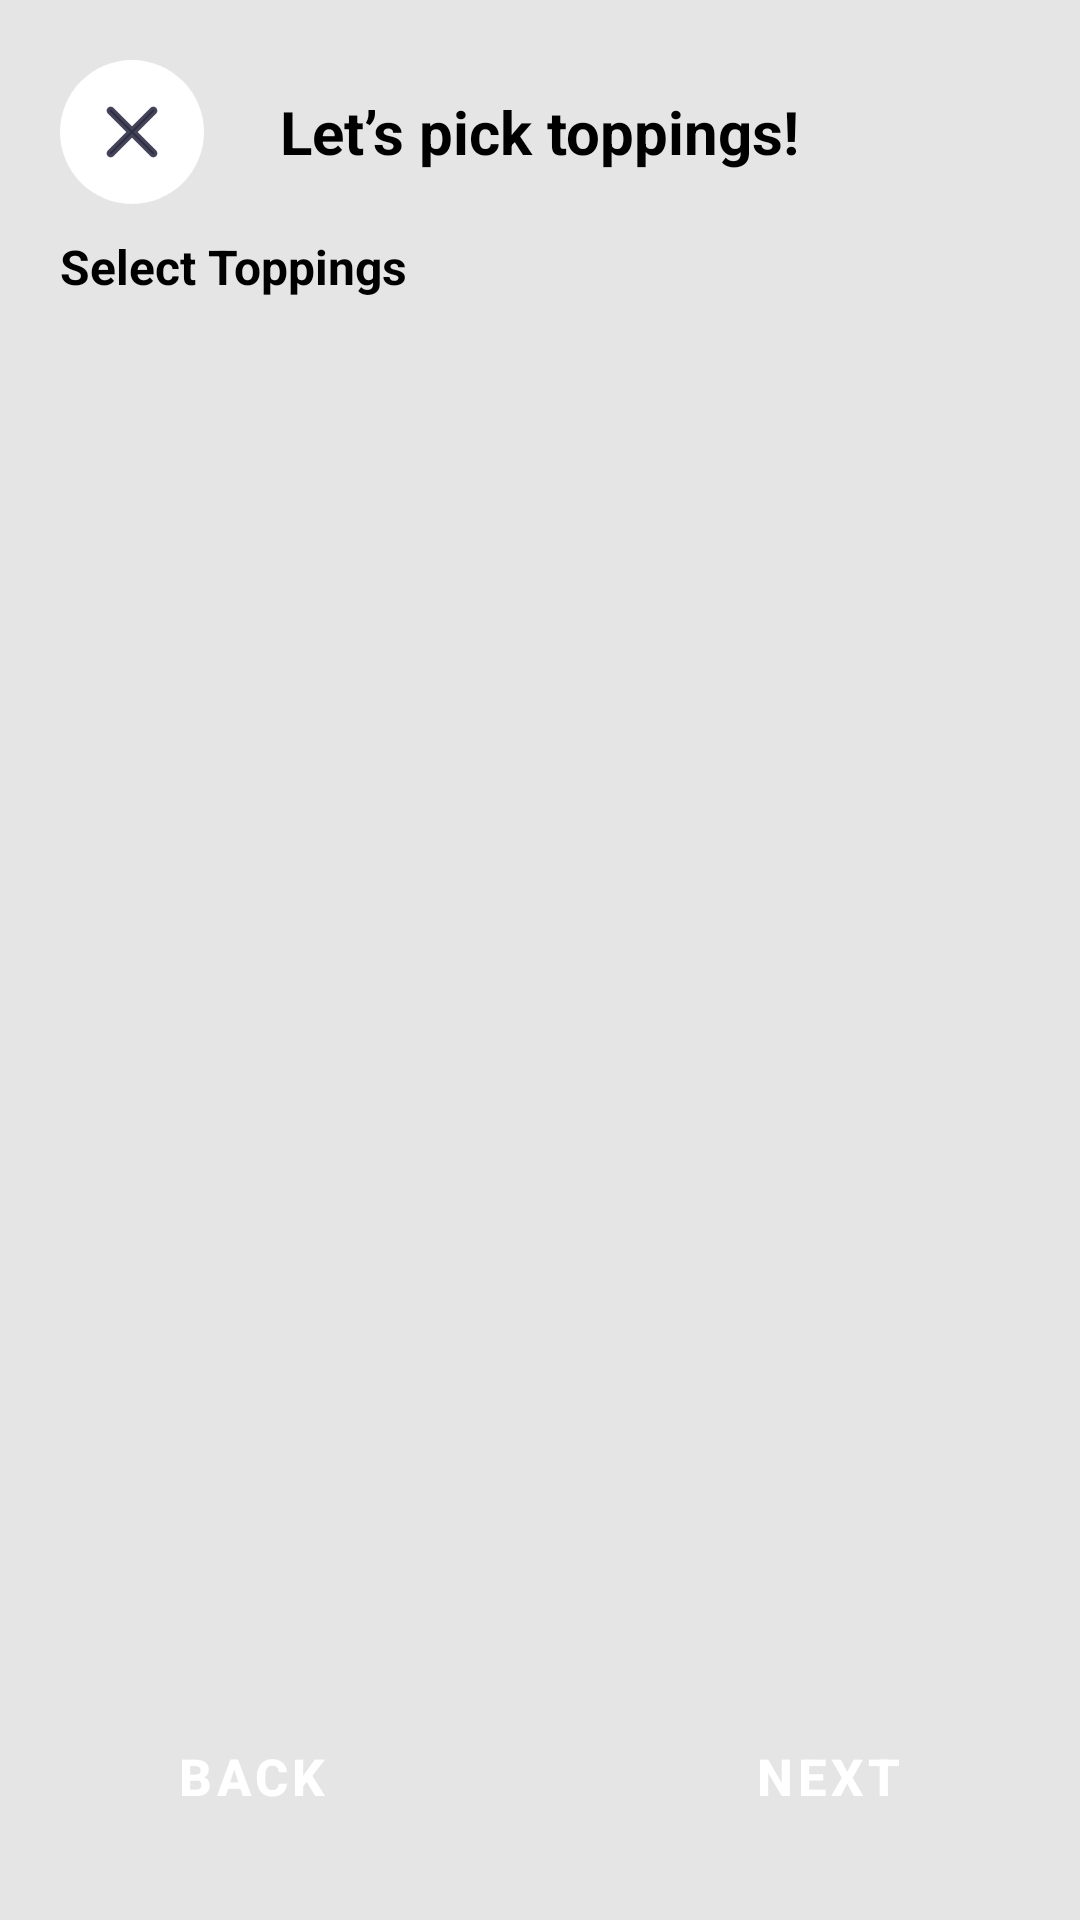

Screen size 1080w x 1920h. Icon name, then its center in pixels as (x=x, y=y):
cross: (x=132, y=132)
